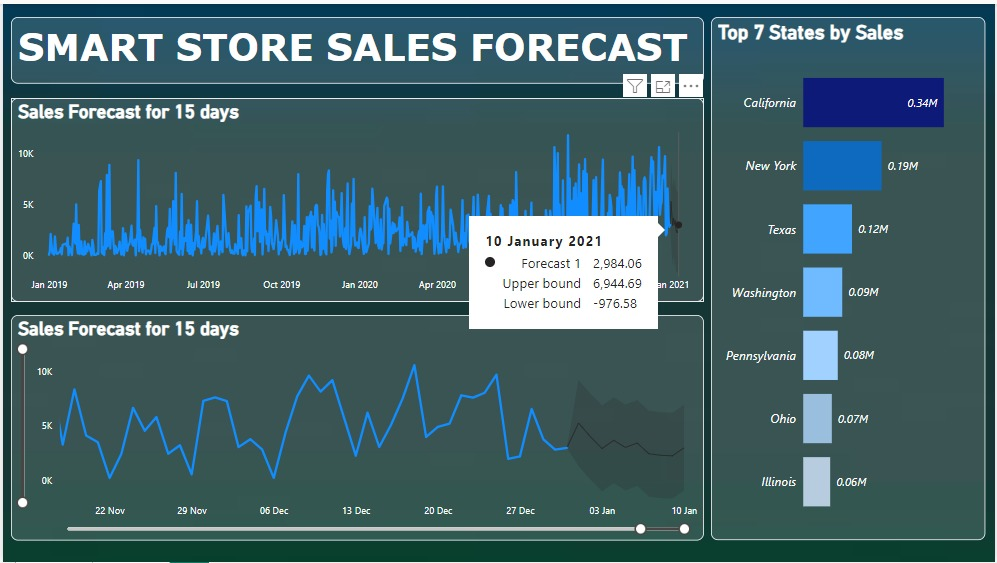

The page's visual inventory and layout, read from the dashboard file:
{"tool":"powerbi","page":{"name":" Page 2","canvas":[1280,720],"ordinal":1},"visuals":[{"type":"textbox","box":[9.7,16.6,894.5,86],"z":0},{"type":"lineChart","title":"Sales Forecast for 15 days","fields":{"Category":["SuperStore_Sales_Dataset.Order Date"],"Y":["Sum(SuperStore_Sales_Dataset.Sales)"]},"box":[9.7,120.7,894.5,263.5],"z":1000},{"type":"lineChart","title":"Sales Forecast for 15 days","fields":{"Category":["SuperStore_Sales_Dataset.Order Date"],"Y":["Sum(SuperStore_Sales_Dataset.Sales)"]},"box":[9.7,400.8,894.5,291.2],"z":2000},{"type":"barChart","title":"Top 7 States by Sales","fields":{"Category":["SuperStore_Sales_Dataset.State"],"Y":["Sum(SuperStore_Sales_Dataset.Sales)"]},"box":[913.8,17,354.3,674.8],"z":3000}]}

Visuals, with their boxes in screenshot pixels (x1, y1, x2, y2), scaled from the page's 1280x720 canvas onto the 997x563 screenshot:
textbox: (8,13,704,80)
"Sales Forecast for 15 days" lineChart: (8,94,704,300)
"Sales Forecast for 15 days" lineChart: (8,313,704,541)
"Top 7 States by Sales" barChart: (712,13,988,541)
